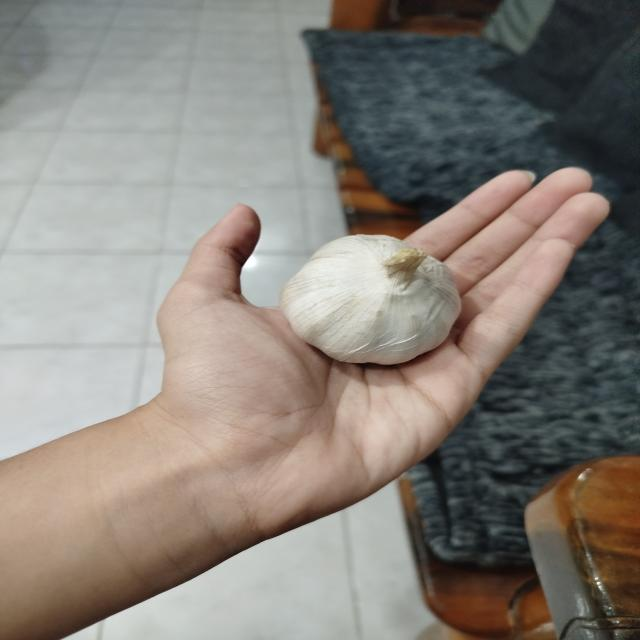garlic: (278, 233, 462, 366)
